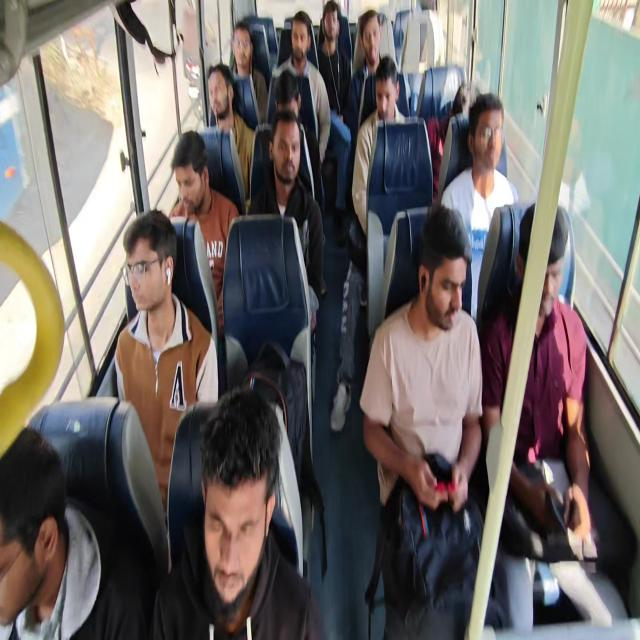person: (182, 391, 284, 640), (14, 418, 90, 611), (510, 196, 600, 356), (121, 238, 182, 355), (423, 251, 486, 357), (172, 54, 239, 130), (470, 102, 504, 201), (247, 118, 294, 187), (172, 136, 210, 210), (216, 22, 258, 81), (376, 74, 412, 139), (450, 61, 480, 128), (355, 12, 384, 80), (287, 10, 309, 68), (275, 70, 300, 117), (324, 0, 342, 42)
